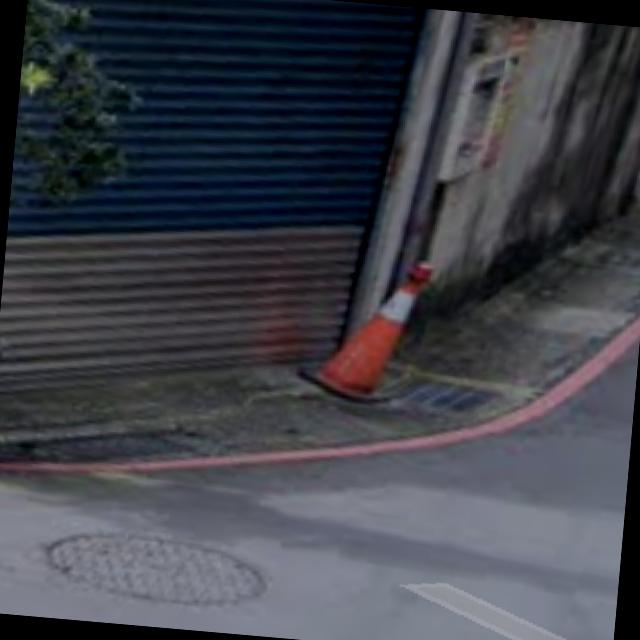cone: (306, 248, 430, 409)
